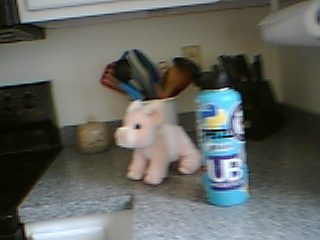piggy: (113, 98, 201, 187)
